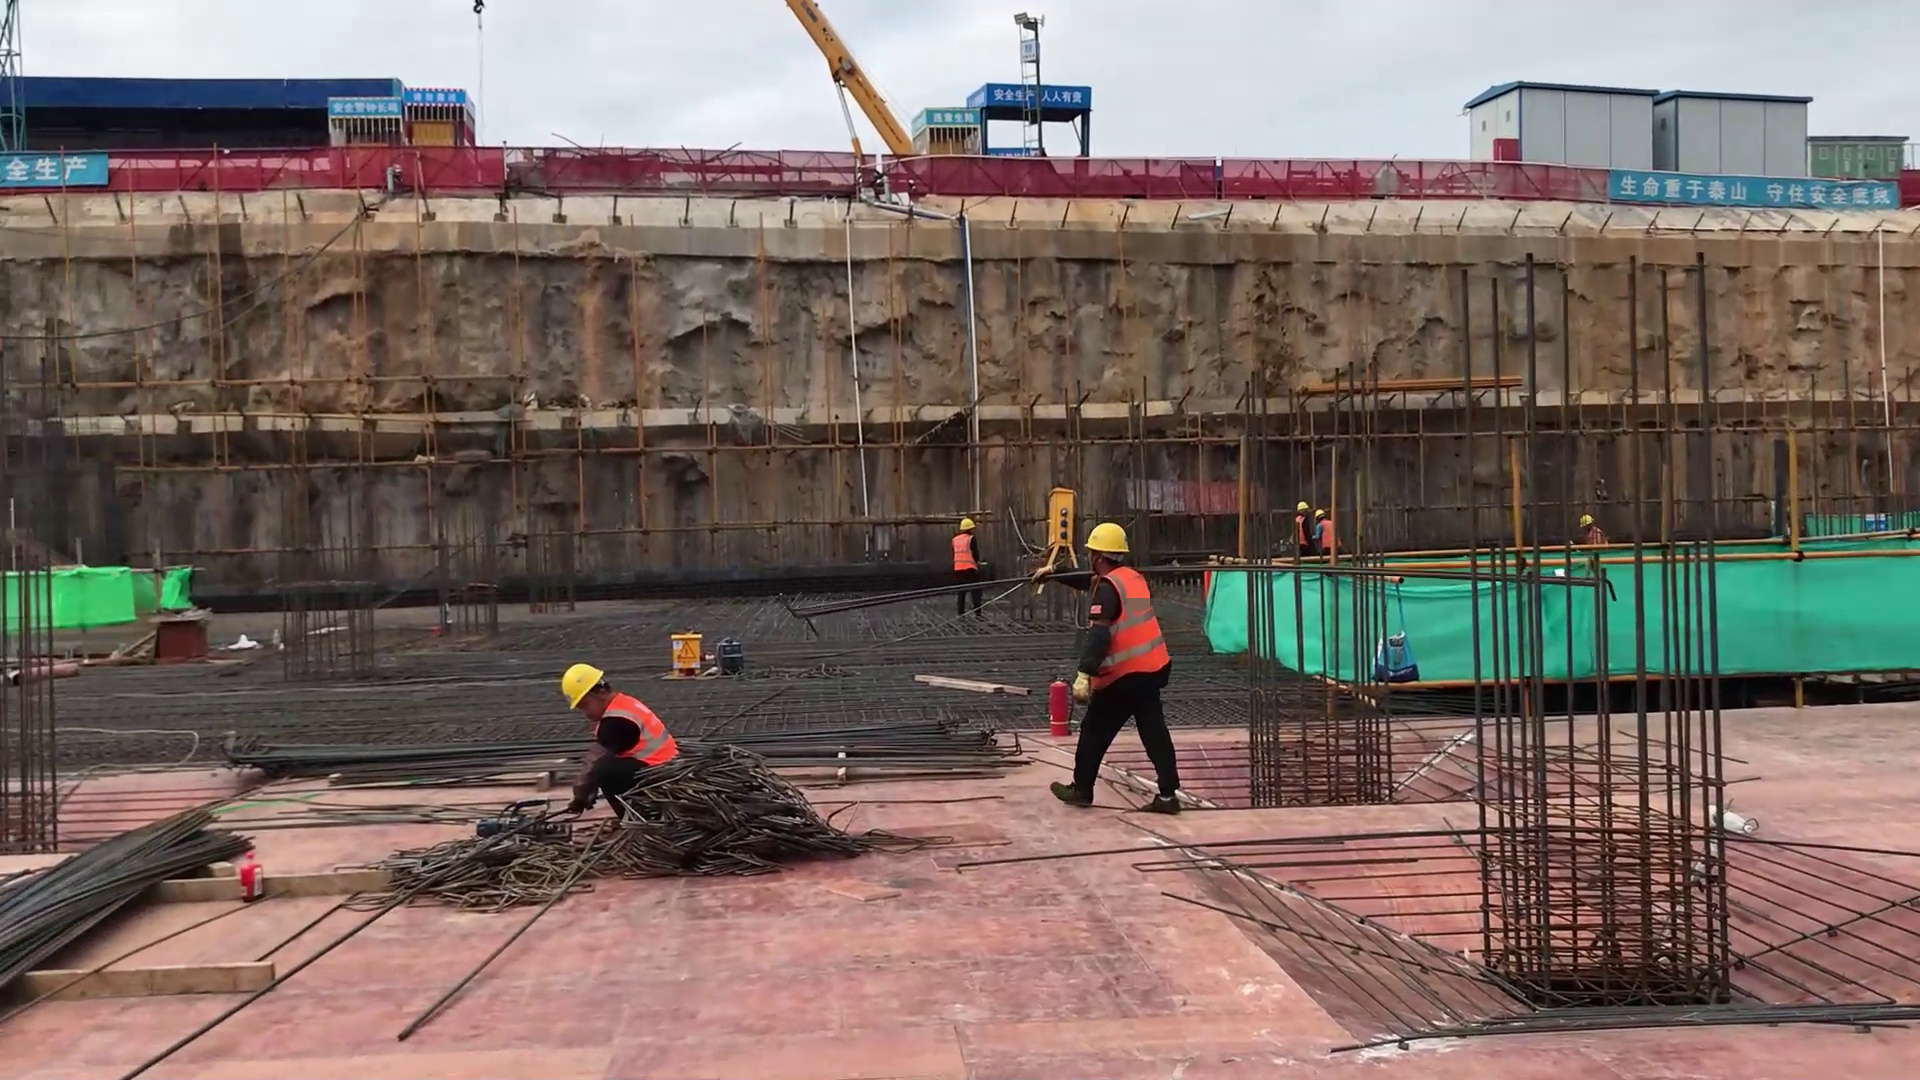ebox: (1038, 484, 1082, 567), (668, 627, 704, 679), (412, 118, 454, 147)
helmet: (562, 664, 605, 709), (1084, 522, 1130, 552), (1579, 515, 1595, 529), (959, 518, 975, 531), (1296, 502, 1308, 512), (1315, 510, 1324, 518)
hook: (472, 1, 486, 16)
person: (1048, 518, 1185, 817), (561, 663, 681, 812), (950, 517, 986, 622), (1314, 509, 1341, 556), (1579, 514, 1609, 545), (1296, 502, 1315, 551)
rebar: (1, 810, 257, 1002)
slogan: (1609, 168, 1899, 209), (1, 151, 108, 186), (986, 82, 1090, 109)
vest: (1090, 565, 1172, 690), (597, 694, 678, 765), (953, 534, 977, 571), (1319, 520, 1338, 551), (1296, 517, 1309, 546)
